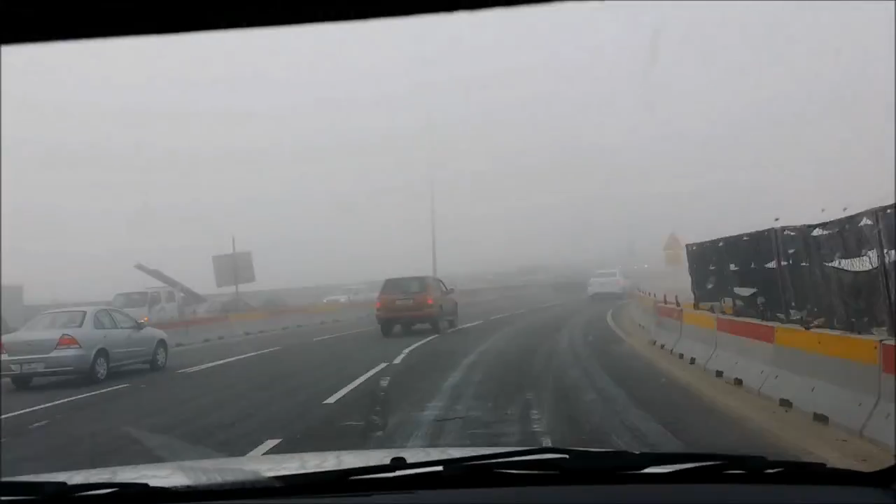bus: (102, 284, 264, 344)
car: (1, 303, 170, 392), (374, 273, 460, 339), (584, 267, 635, 301), (319, 284, 378, 308)
